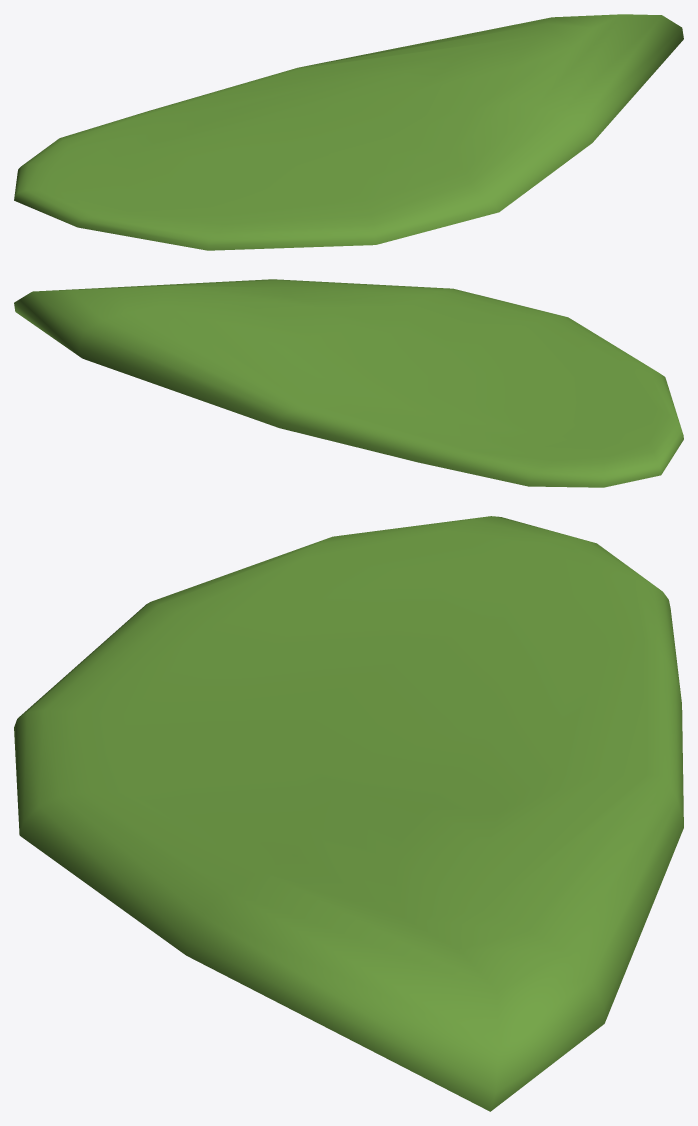
File: grass_02.fbx
3 views of the same model, one above another, from view 1: azimuth 30°, elevation 25°; view 2: azimuth 150°, elevation 25°; view 3: azimuth 270°, elevation 25° (orthographic). The views are drawn at different scales.
Parts seen in each view (by area): view 1: grass; view 2: grass; view 3: grass.
Boxes of the visible parts, box(x1,y1,x2,y2) form: grass: box(14, 14, 683, 250); grass: box(14, 279, 683, 487); grass: box(14, 516, 683, 1111).
Bounding box in the file's own units: 47135 × 2963 × 22753.
